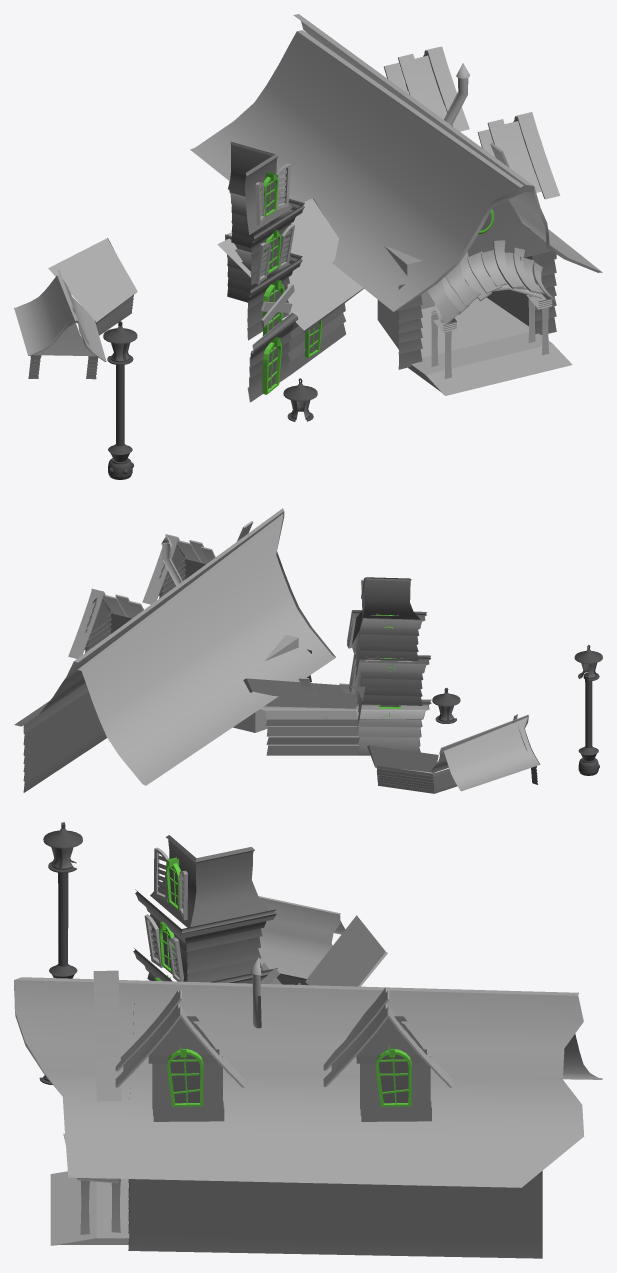
Rendered from big obj.fbx.
3 views of the same model, one above another, from view 1: azimuth 30°, elevation 25°; view 2: azimuth 150°, elevation 25°; view 3: azimuth 270°, elevation 25° (orthographic). The views are drawn at different scales.
Parts seen in each view (by area): view 1: polySurface179, pCube157, polySurface177, hide_this1, polySurface181, polySurface180, low_house1, big_side_of_house1, mid_low_house1, top_of_house1, pSphere6, front_of_huse__pyrimid1 (+13 smaller); view 2: polySurface179, polySurface178, big_side_of_house1, polySurface180, mid_low_house1, topmidlle1, polySurface177, top_of_house1, side_of_house_small1, pSphere6, polySurface181, shingle23 (+6 smaller); view 3: polySurface179, big_side_of_house1, top_of_house1, topmidlle1, polySurface180, pCube157, pCube158, pCube159, shingle27, polySurface181, pSphere6, window11 (+12 smaller).
Boxes of the visible parts, box(x1,y1,x2,y2) form: polySurface179: box(190, 14, 602, 311); pCube157: box(377, 245, 572, 395); polySurface177: box(217, 198, 363, 333); hide_this1: box(427, 240, 555, 325); polySurface181: box(48, 238, 137, 323); polySurface180: box(14, 270, 106, 361); low_house1: box(248, 303, 345, 402); big_side_of_house1: box(398, 227, 556, 369); mid_low_house1: box(225, 234, 302, 340); top_of_house1: box(228, 141, 292, 234); pSphere6: box(103, 321, 137, 479); front_of_huse__pyrimid1: box(467, 157, 551, 257); polySurface179: box(14, 508, 335, 785); polySurface178: box(260, 700, 430, 755); big_side_of_house1: box(23, 649, 311, 792); polySurface180: box(430, 714, 540, 791); mid_low_house1: box(349, 653, 430, 728); topmidlle1: box(347, 610, 426, 683); polySurface177: box(243, 678, 365, 709); top_of_house1: box(352, 577, 420, 644); side_of_house_small1: box(376, 765, 537, 793); pSphere6: box(574, 645, 602, 775); polySurface181: box(367, 745, 438, 773); shingle23: box(68, 589, 104, 658); polySurface179: box(14, 977, 602, 1187); big_side_of_house1: box(128, 1171, 542, 1258); top_of_house1: box(150, 835, 268, 927); topmidlle1: box(135, 889, 276, 982); polySurface180: box(258, 896, 345, 978); pCube157: box(50, 1171, 129, 1245); pCube158: box(148, 1016, 224, 1121); pCube159: box(356, 1016, 431, 1121); shingle27: box(93, 970, 121, 1101); polySurface181: box(305, 915, 387, 986); pSphere6: box(43, 822, 82, 978); window11: box(167, 1045, 203, 1106).
Bounding box in the file's own units: 28.42 × 12.96 × 24.35.
